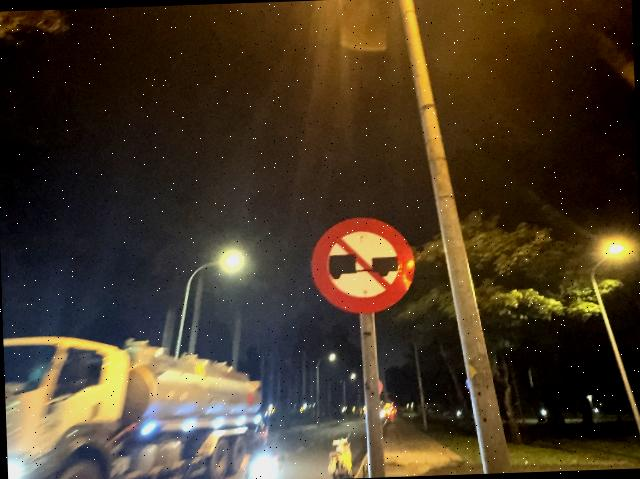cam-xe-somi-romooc: (309, 216, 417, 316)
